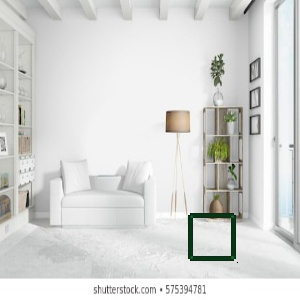square: (186, 210, 238, 265)
